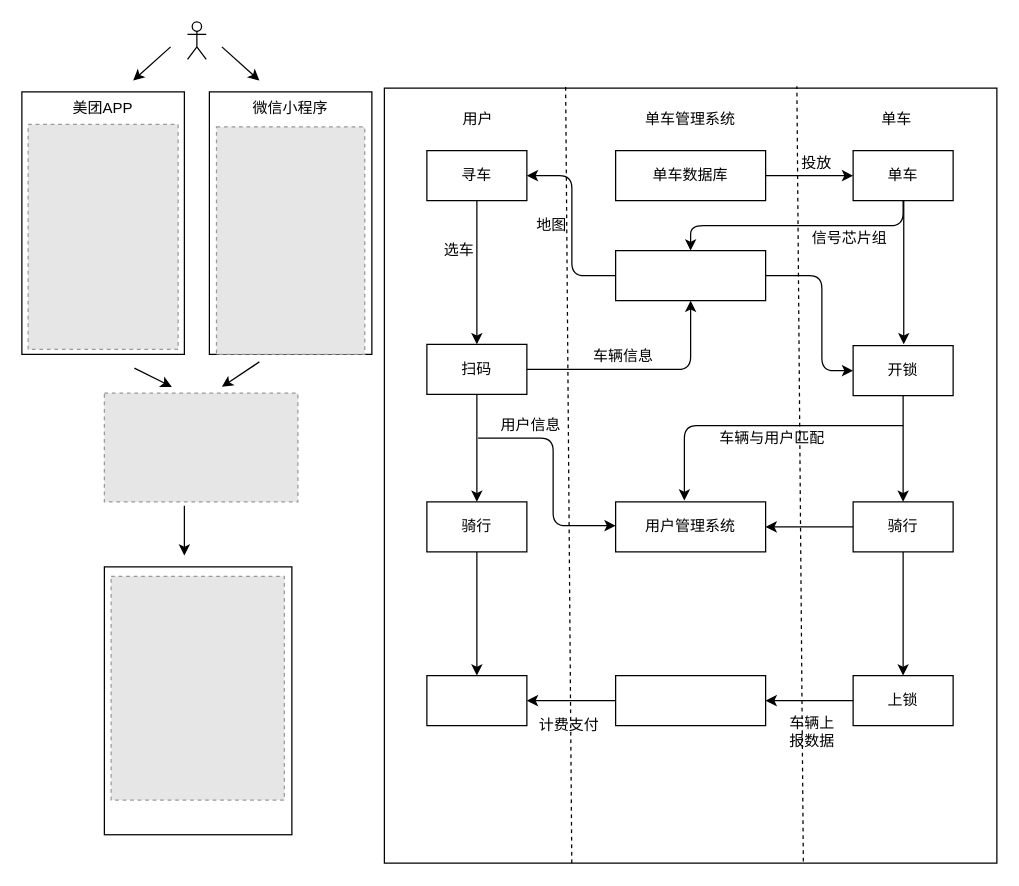
The diagram is 1019 pixels wide and 886 high, and some of its shapes have lost their labels. Grey dashed boxes stand in for pictures. The shapes that lost their labels are listed below. From the top down, each one's box as (x1, y1, x2, y2) in pixels, then its label:
(186, 21, 206, 59): Actor
(614, 249, 766, 301): 车辆跟踪系统
(426, 674, 527, 726): 还车
(614, 674, 766, 726): 支付管理系统
